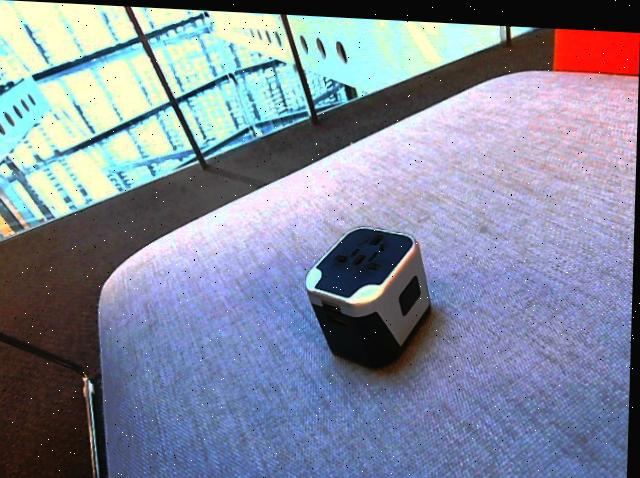adapter: (304, 220, 435, 367)
